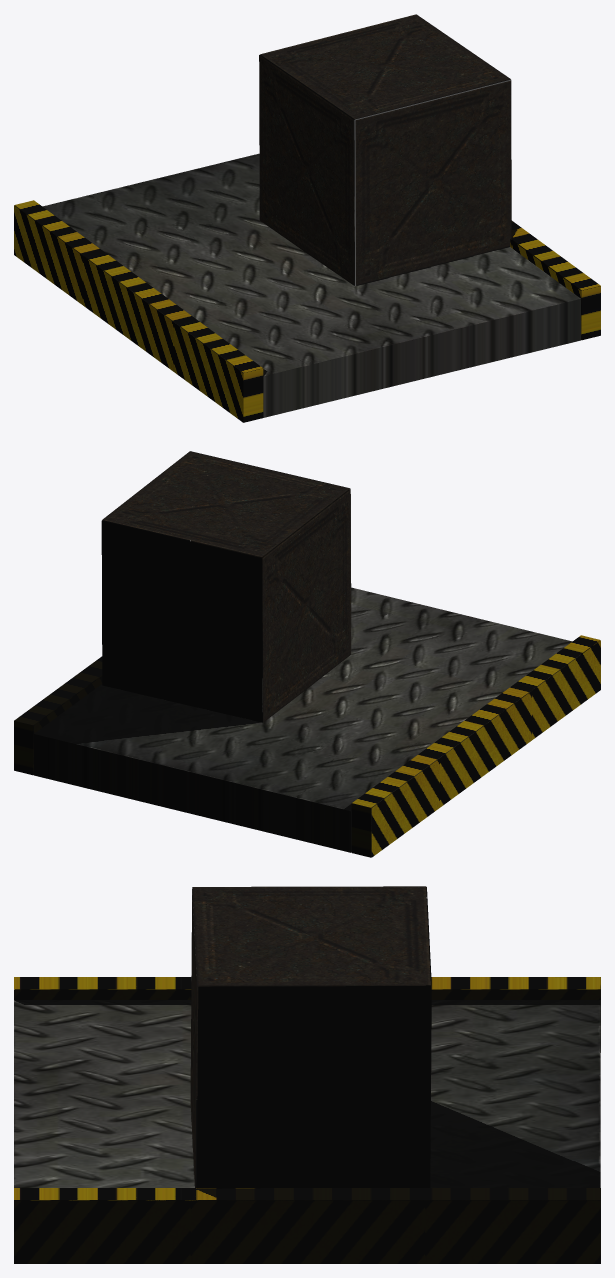
Rendered from Obsticle_Box_fbx.fbx.
3 renders of one model, top to bottom at view 1: azimuth 30°, elevation 25°; view 2: azimuth 150°, elevation 25°; view 3: azimuth 270°, elevation 25°, orthographic. The views are drawn at different scales.
Parts seen in each view (by area): view 1: Obsticle_Box:Layer1, Obsticle_Box:Layer3, Obsticle_Box:Layer2; view 2: Obsticle_Box:Layer1, Obsticle_Box:Layer3, Obsticle_Box:Layer2; view 3: Obsticle_Box:Layer3, Obsticle_Box:Layer1, Obsticle_Box:Layer2.
Part boxes in pixels (left/top/right/bottom): Obsticle_Box:Layer1: left=34, top=153, right=580, bottom=417; Obsticle_Box:Layer3: left=259, top=14, right=511, bottom=285; Obsticle_Box:Layer2: left=14, top=200, right=600, bottom=422; Obsticle_Box:Layer1: left=34, top=587, right=580, bottom=852; Obsticle_Box:Layer3: left=101, top=451, right=351, bottom=722; Obsticle_Box:Layer2: left=14, top=635, right=600, bottom=857; Obsticle_Box:Layer3: left=190, top=886, right=431, bottom=1188; Obsticle_Box:Layer1: left=14, top=1000, right=600, bottom=1200; Obsticle_Box:Layer2: left=14, top=977, right=600, bottom=1263.
Bounding box in the file's own units: 4.5 × 2.51 × 5.
